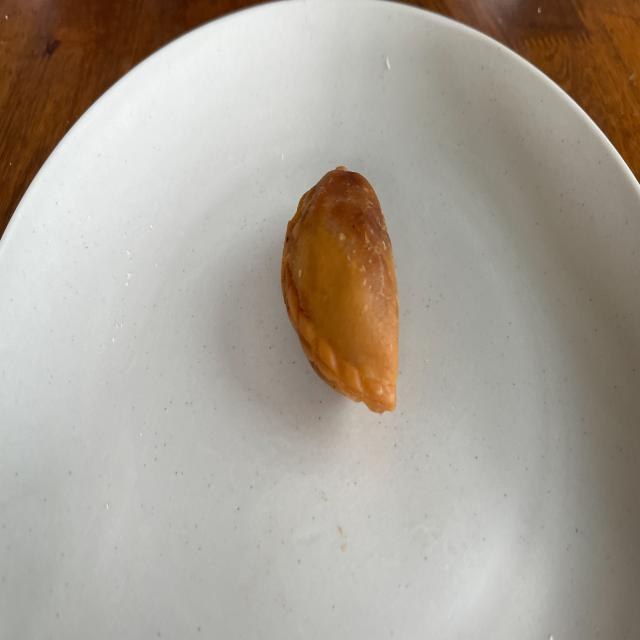karipap: (281, 167, 399, 413)
